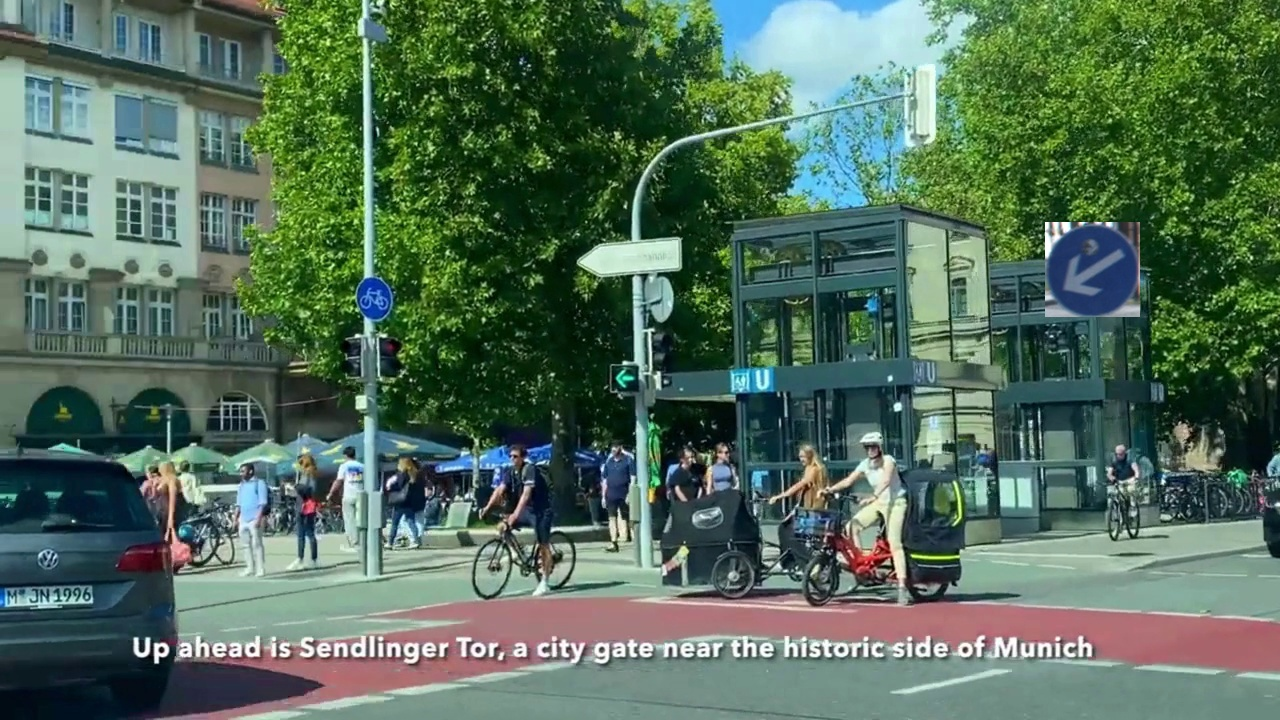Keep left: (1045, 222, 1140, 317)
